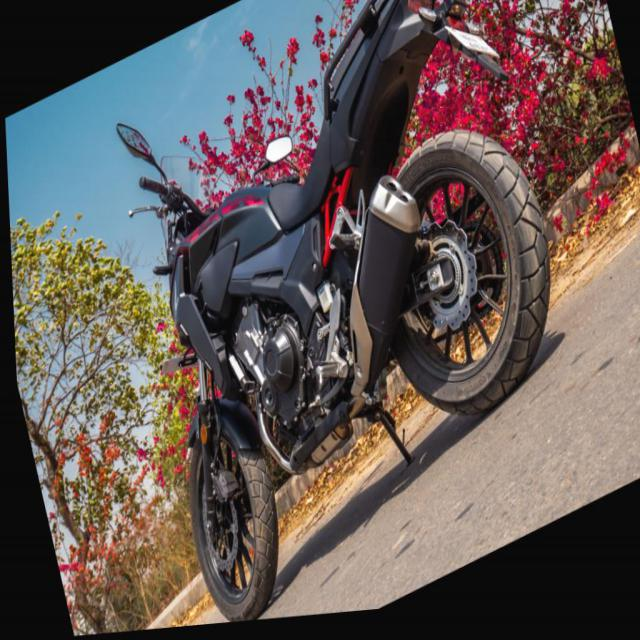CB500X: (86, 0, 607, 634)
